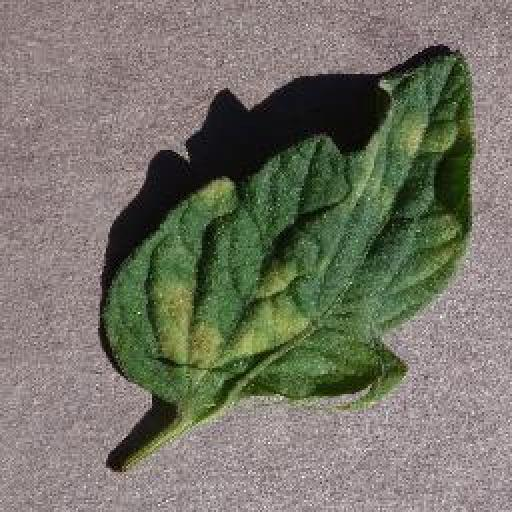disease_tomato: (102, 48, 476, 409)
